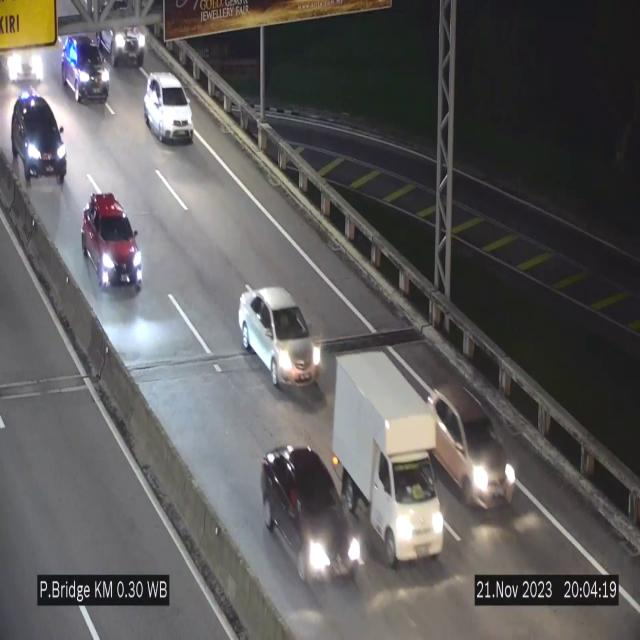Car: (262, 444, 360, 590), (431, 380, 517, 516), (238, 288, 320, 388), (81, 192, 143, 294), (7, 88, 69, 184), (144, 72, 194, 142), (98, 0, 150, 67), (61, 32, 109, 103), (0, 43, 44, 87)
Truck: (332, 352, 444, 566)
